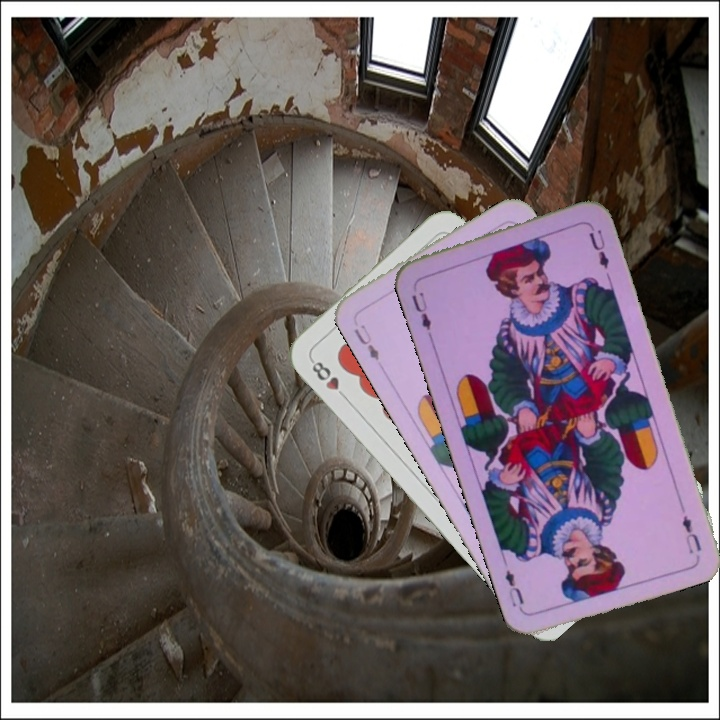EU: (407, 288, 435, 339), (350, 320, 382, 364), (678, 511, 704, 556)
H8: (306, 355, 351, 403)
